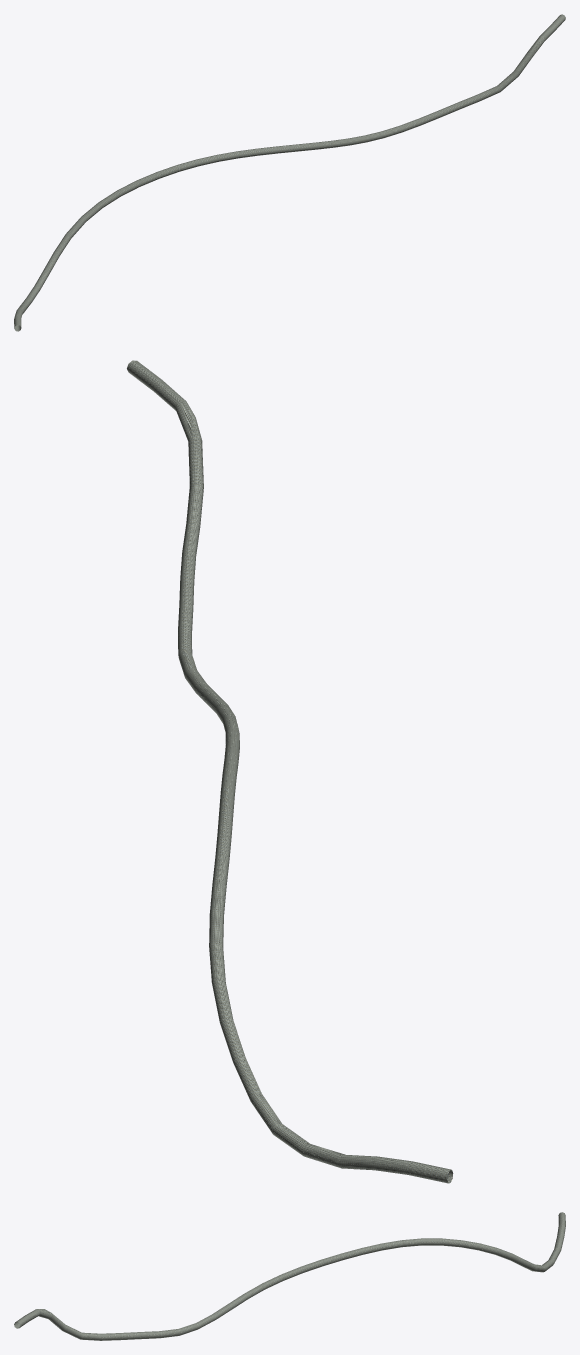
Rendered from microtubule7.fbx.
The picture shows the model from 3 angles, top to bottom: view 1: azimuth 90°, elevation 25°; view 2: azimuth 150°, elevation 25°; view 3: azimuth 270°, elevation 25°; orthographic projection. The views are drawn at different scales.
Parts seen in each view (by area): view 1: microtubule7; view 2: microtubule7; view 3: microtubule7.
Boxes of the visible parts, x1,y1,x2,y2 form: microtubule7: [14, 14, 565, 331]; microtubule7: [127, 360, 453, 1183]; microtubule7: [14, 1212, 565, 1340].
Bounding box in the file's own units: 10322 × 2655 × 11398.
1 material, 1 textured.
